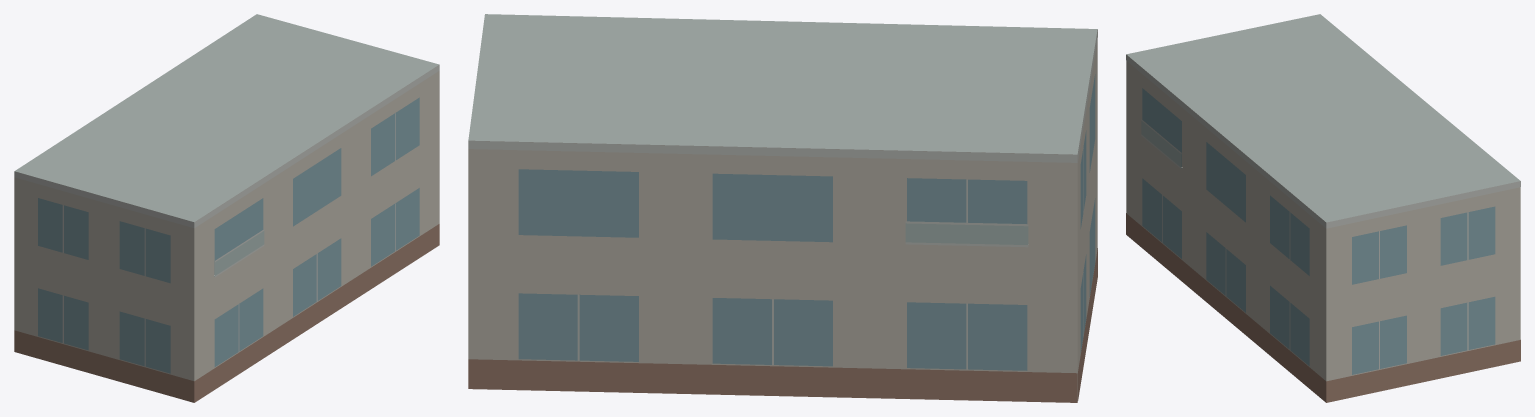
The model's file is survey-upis-32724288.glb.
3 renders of one model, left to right at view 1: azimuth 30°, elevation 25°; view 2: azimuth 150°, elevation 25°; view 3: azimuth 270°, elevation 25°, orthographic. The views are drawn at different scales.
Visible parts, largest first — view 1: survey-upis-32724288.tmp; view 2: survey-upis-32724288.tmp; view 3: survey-upis-32724288.tmp.
Boxes of the visible parts, x1,y1,x2,y2 form: survey-upis-32724288.tmp: (14,14,439,402); survey-upis-32724288.tmp: (468,14,1097,402); survey-upis-32724288.tmp: (1126,14,1520,402).
Size of the model in its own units: 17.87 by 7.2 by 14.29.
